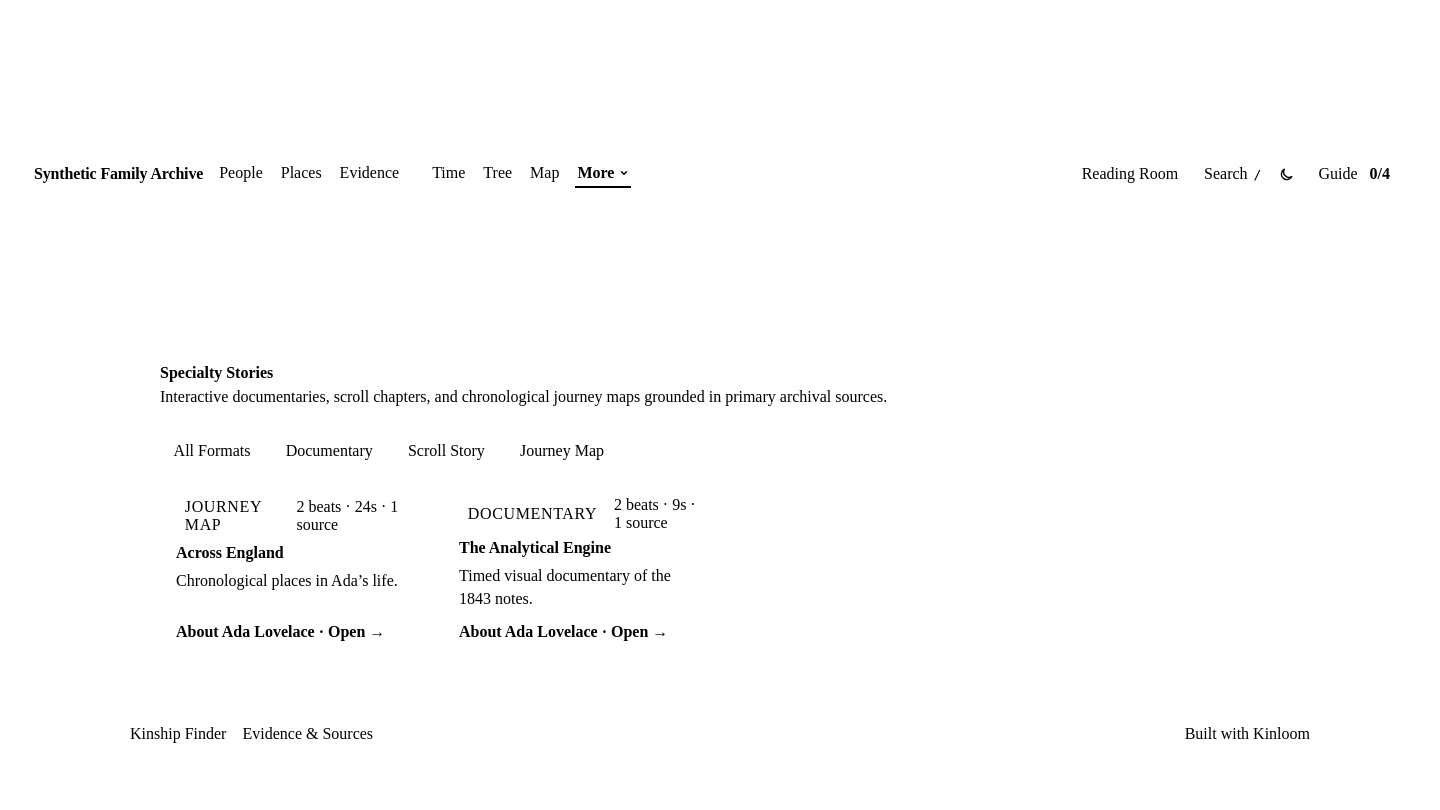
Test: storiesUiPlugin behavioral rendering › renders /stories index with format filters and empty states
The image size is (1440, 810).
Click the button "Journey Map" at (562, 451), box [506,442,618,460]
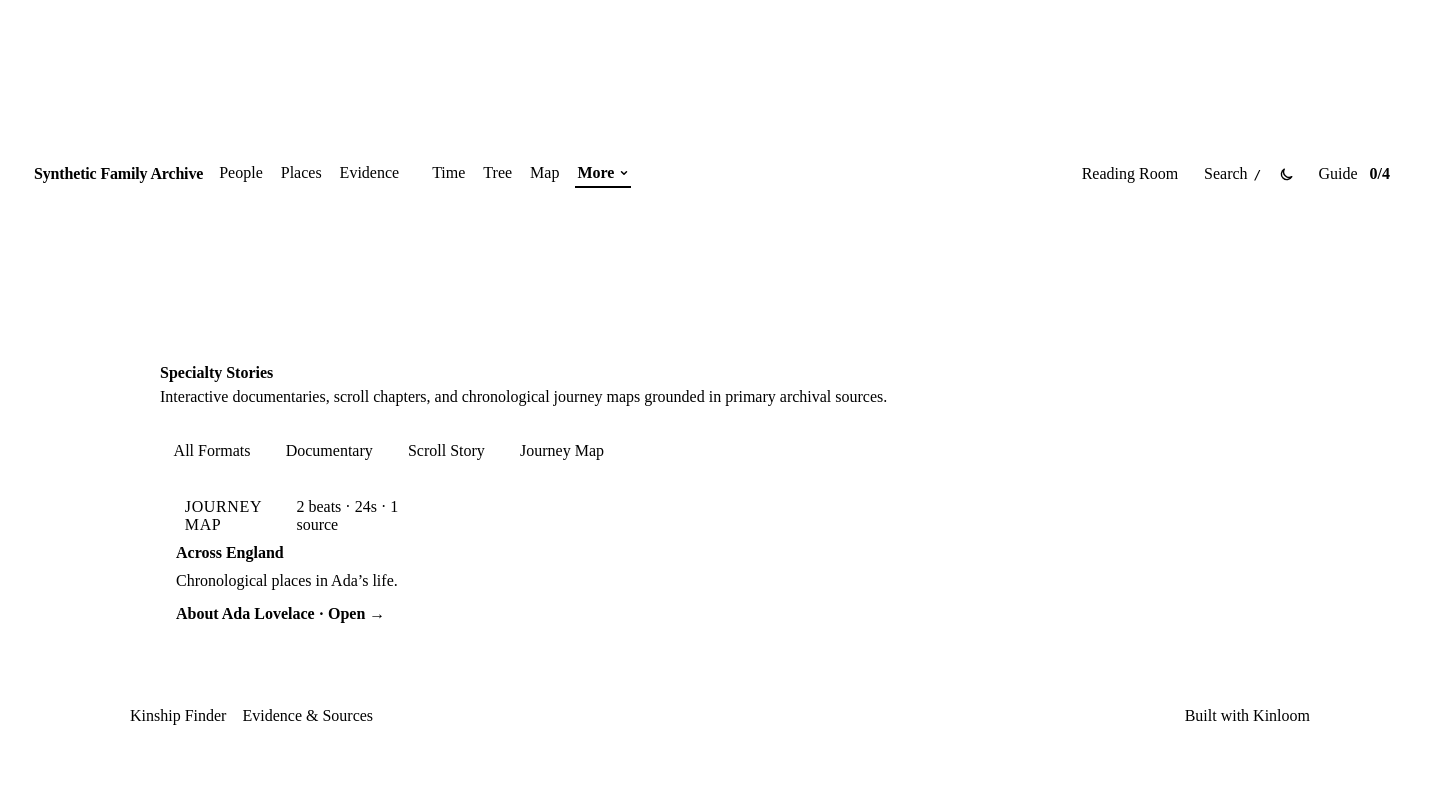
Expected: the text "Across England" is shown, [176,544,284,561]
Expected: the text "The Analytical Engine" is gone
Click the button "Scroll Story" at (446, 451), box [394,442,498,460]
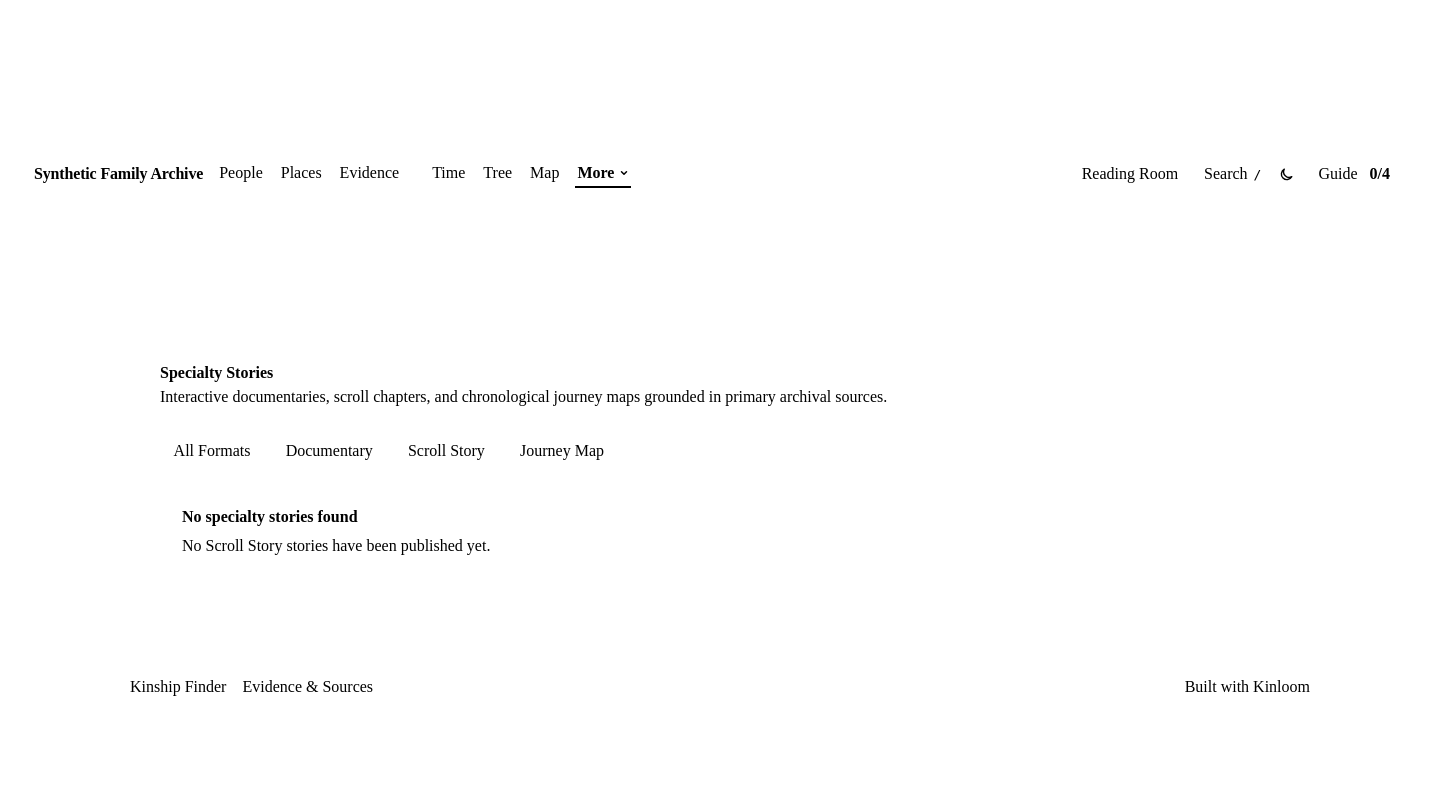
Expected: the text "No specialty stories found" is shown, [182,508,358,525]
